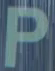Parking: (2, 1, 51, 66)
